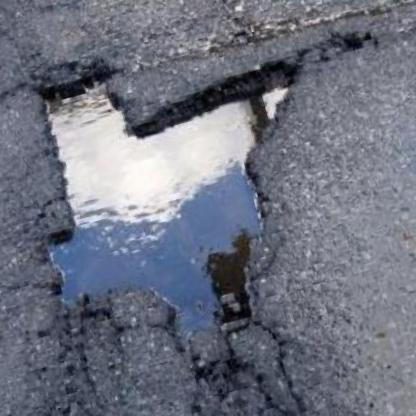pothole: (0, 3, 367, 388)
